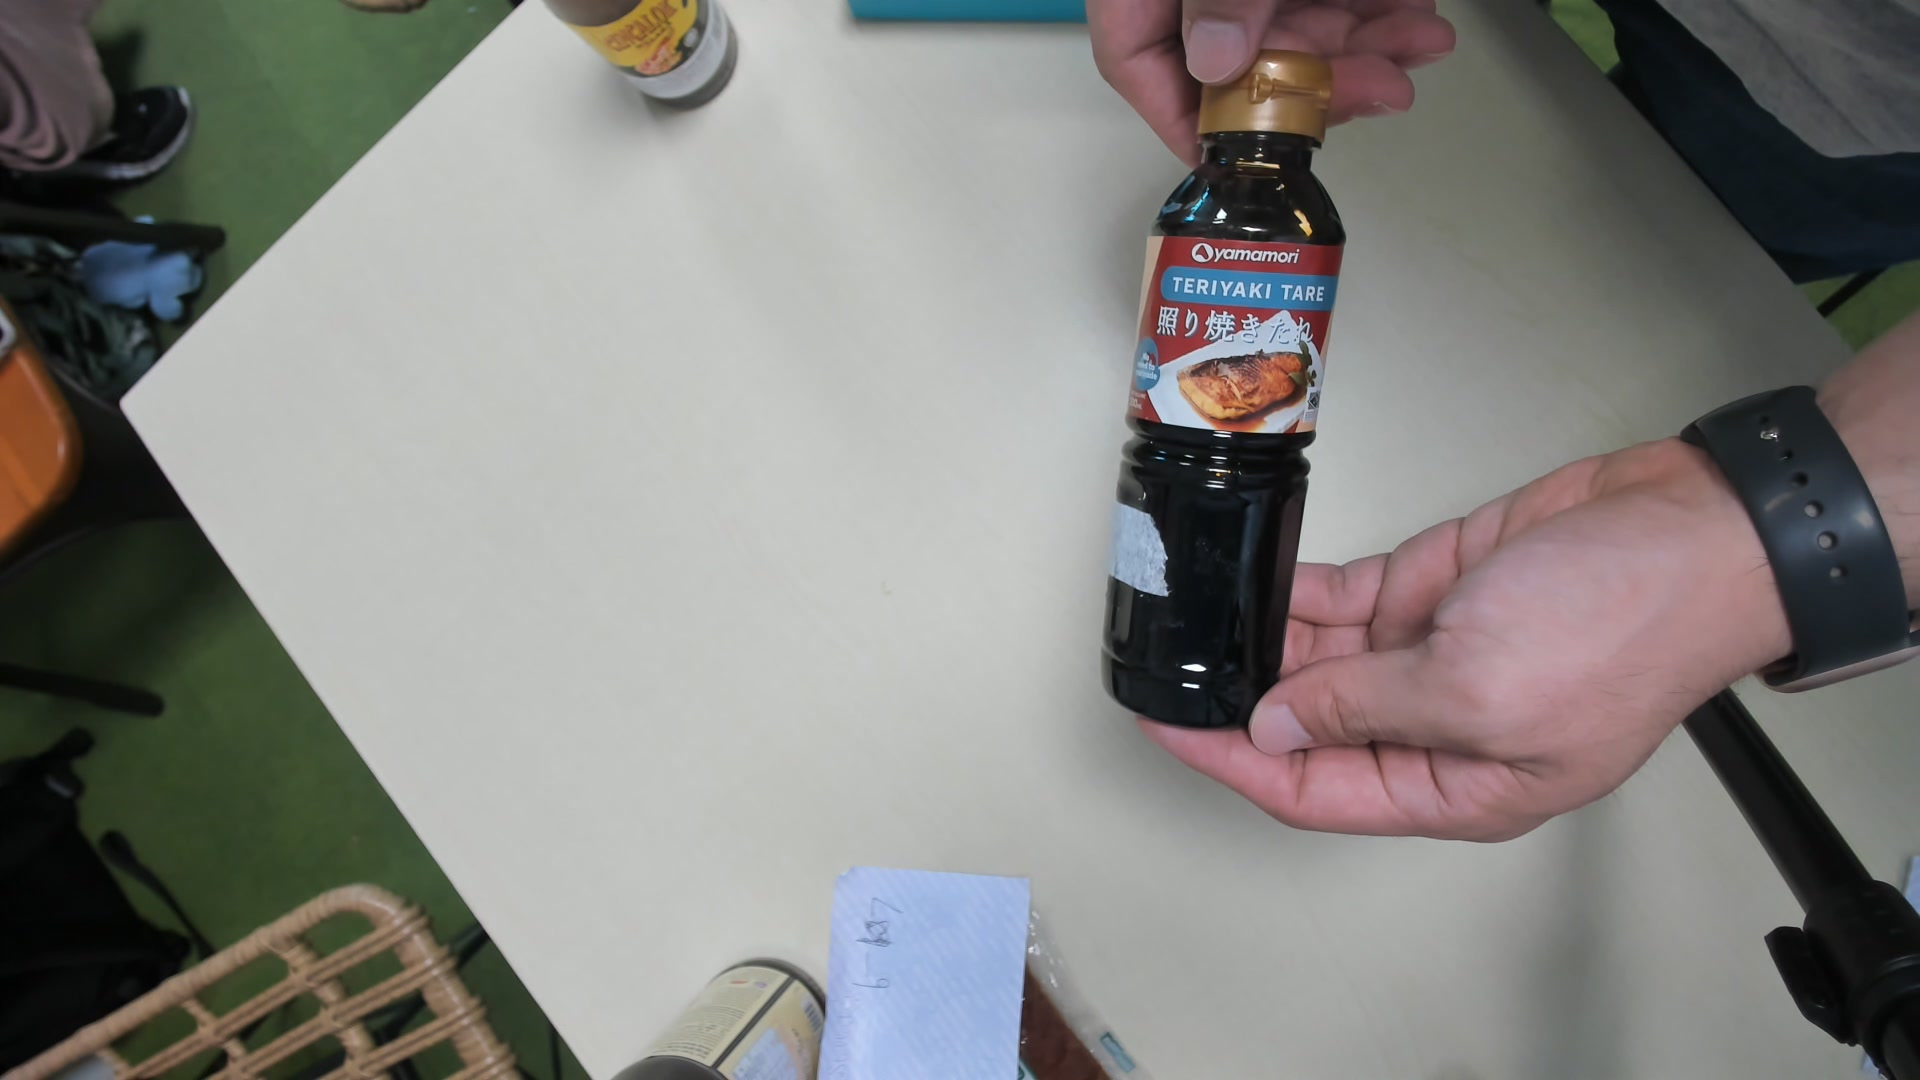OtherSauceDressingSoupbasePaste_200-299g_Halal_NonHealthy: (1104, 62, 1336, 727)
